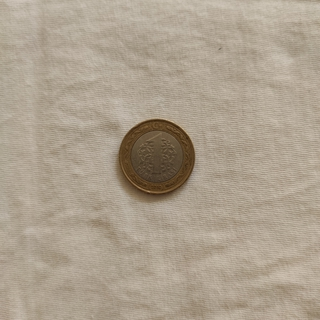1TL: (117, 117, 196, 195)
